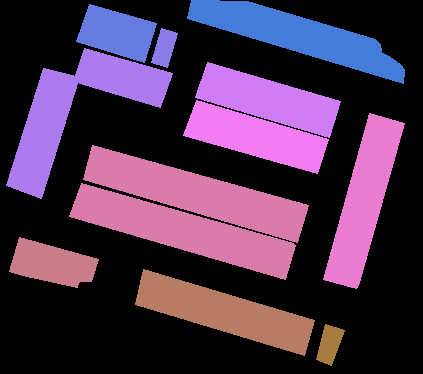parkingspot: (83, 145, 308, 242), (69, 183, 295, 279), (187, 0, 404, 83), (135, 269, 314, 355), (323, 113, 404, 288), (195, 62, 340, 137), (183, 100, 328, 173), (6, 68, 79, 198), (73, 48, 172, 107), (76, 4, 156, 62), (9, 237, 98, 287), (316, 324, 344, 365), (151, 28, 177, 67)
